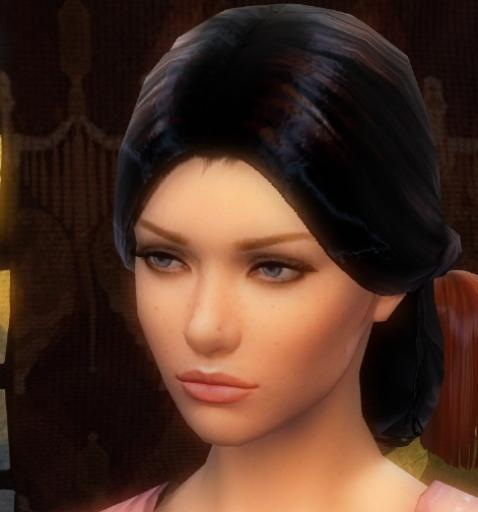left_eye: (247, 260, 315, 290)
left_lip_corner: (245, 379, 266, 398)
right_eye: (142, 251, 191, 278)
right_lip_corner: (173, 371, 189, 390)
